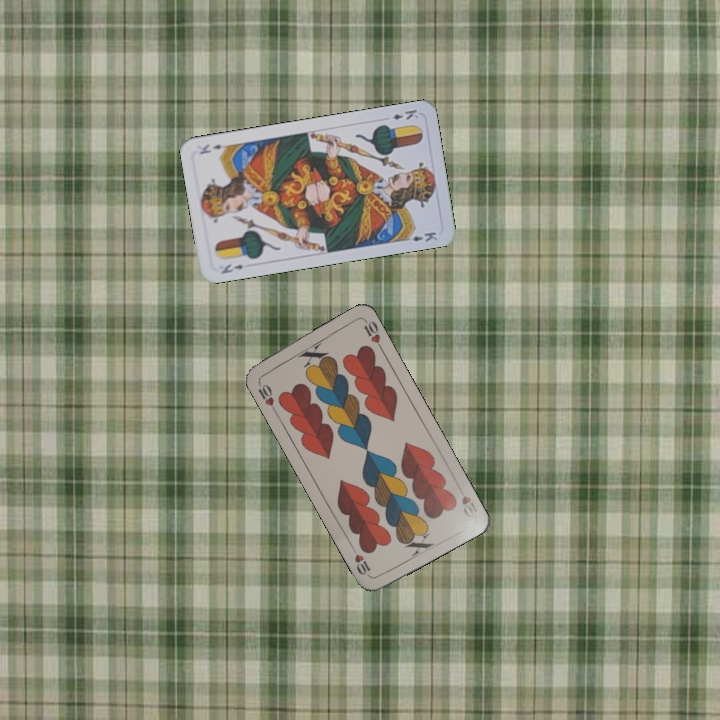EK: (388, 105, 421, 123), (217, 260, 246, 276)
H10: (454, 482, 481, 520), (254, 377, 278, 415)
